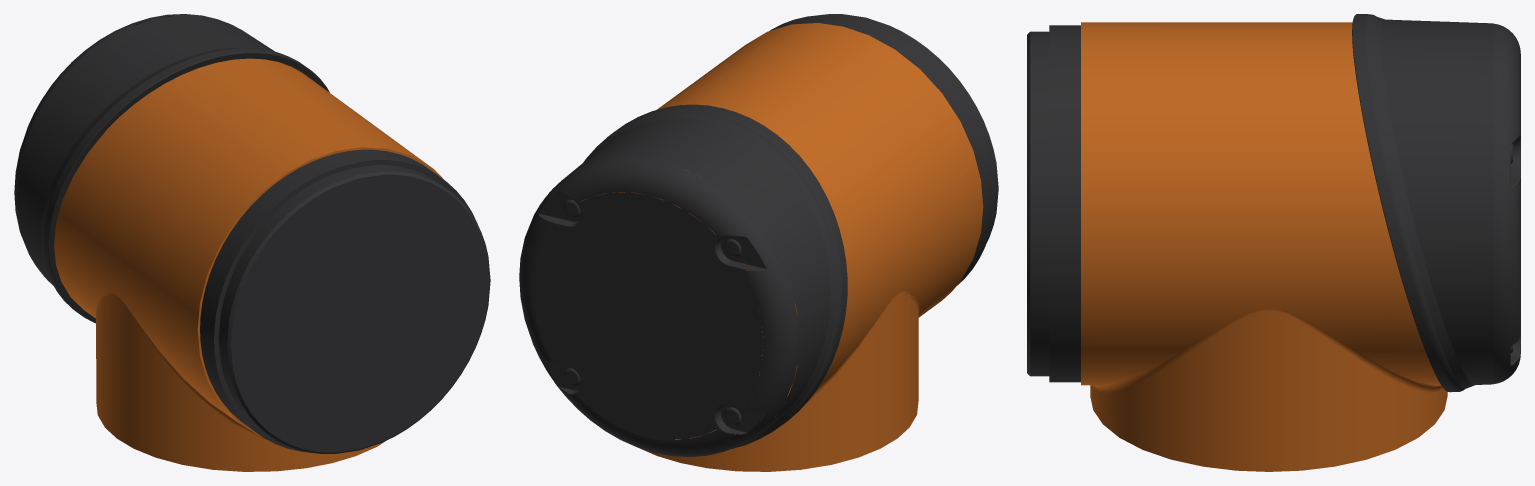
3 views of the same model, side by side, from view 1: azimuth 30°, elevation 25°; view 2: azimuth 150°, elevation 25°; view 3: azimuth 270°, elevation 25° (orthographic). The views are drawn at different scales.
Parts seen in each view (by area): view 1: NONE-DC_Shell_ncl1_2, NONE-DC_Shell, NONE-DC_Shell_ncl1_1; view 2: NONE-DC_Shell_ncl1_1, NONE-DC_Shell, NONE-DC_Shell_ncl1_2; view 3: NONE-DC_Shell, NONE-DC_Shell_ncl1_1, NONE-DC_Shell_ncl1_2.
Part boxes in pixels (x1=…): NONE-DC_Shell_ncl1_2: x1=200, y1=149, x2=490, y2=453; NONE-DC_Shell: x1=54, y1=58, x2=443, y2=471; NONE-DC_Shell_ncl1_1: x1=14, y1=14, x2=329, y2=323; NONE-DC_Shell_ncl1_1: x1=519, y1=104, x2=847, y2=456; NONE-DC_Shell: x1=581, y1=23, x2=983, y2=471; NONE-DC_Shell_ncl1_2: x1=736, y1=14, x2=998, y2=299; NONE-DC_Shell: x1=1081, y1=22, x2=1447, y2=471; NONE-DC_Shell_ncl1_1: x1=1352, y1=14, x2=1520, y2=392; NONE-DC_Shell_ncl1_2: x1=1027, y1=25, x2=1080, y2=382.
Size of the model in its own units: 0.1229 by 0.1603 by 0.1307.
